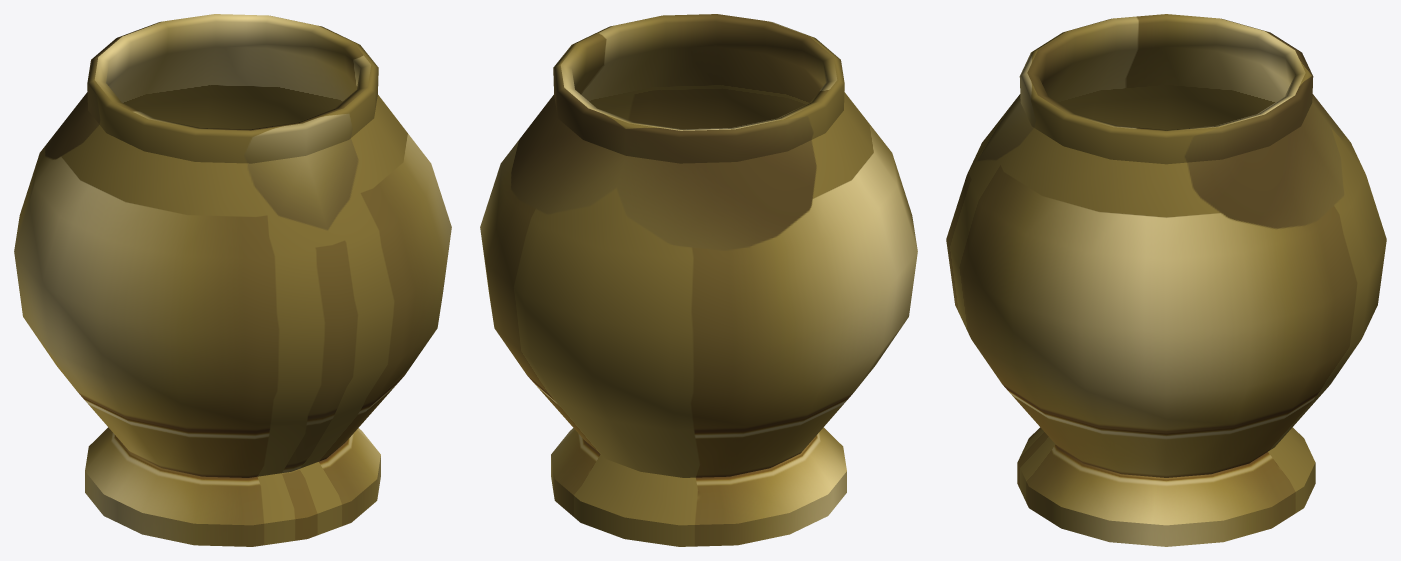
Rendered from Turkish_SugarPot.fbx.
3 views of the same model, side by side, from view 1: azimuth 30°, elevation 25°; view 2: azimuth 150°, elevation 25°; view 3: azimuth 270°, elevation 25° (orthographic).
Visible parts, largest first — view 1: Turkish_SugarPot; view 2: Turkish_SugarPot; view 3: Turkish_SugarPot.
Boxes of the visible parts, x1=… form: Turkish_SugarPot: x1=14, y1=14, x2=451, y2=546; Turkish_SugarPot: x1=480, y1=14, x2=917, y2=546; Turkish_SugarPot: x1=946, y1=14, x2=1386, y2=546.
Bounding box in the file's own units: 31.74 × 32.68 × 31.74.
